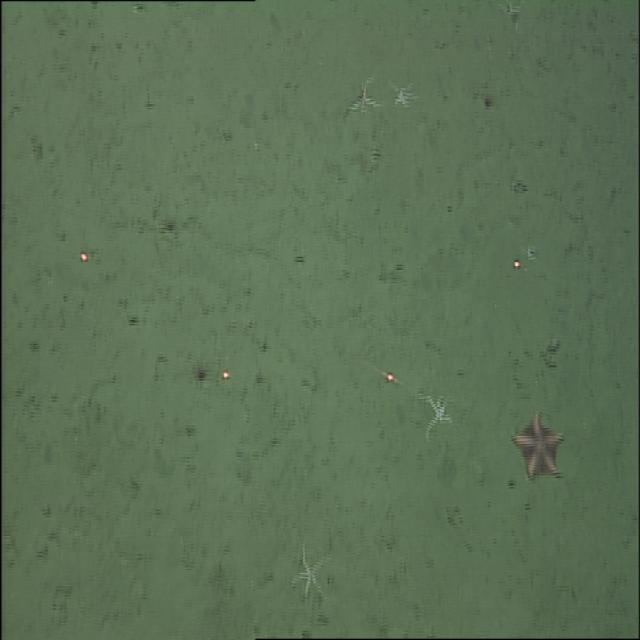Brittle Star: (291, 542, 329, 604), (425, 392, 450, 438)
Not Brittle Star: (512, 408, 566, 484), (191, 357, 212, 390)
